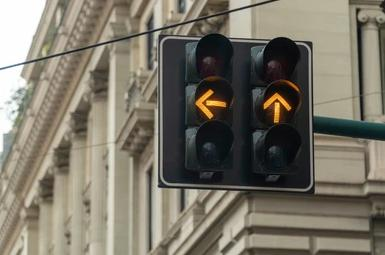yellow_light: (251, 37, 303, 175), (185, 33, 236, 170)
